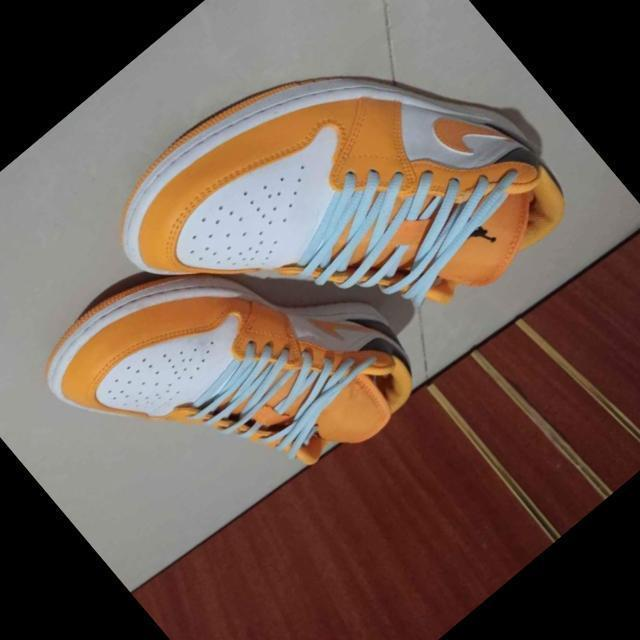nike original jordan 1: (86, 0, 587, 456), (24, 164, 439, 576)
